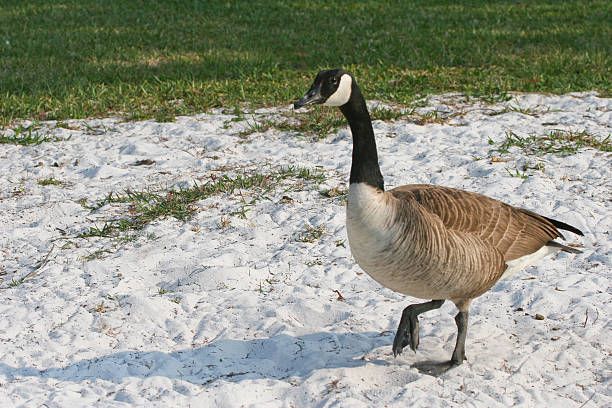goose: (289, 65, 590, 373)
